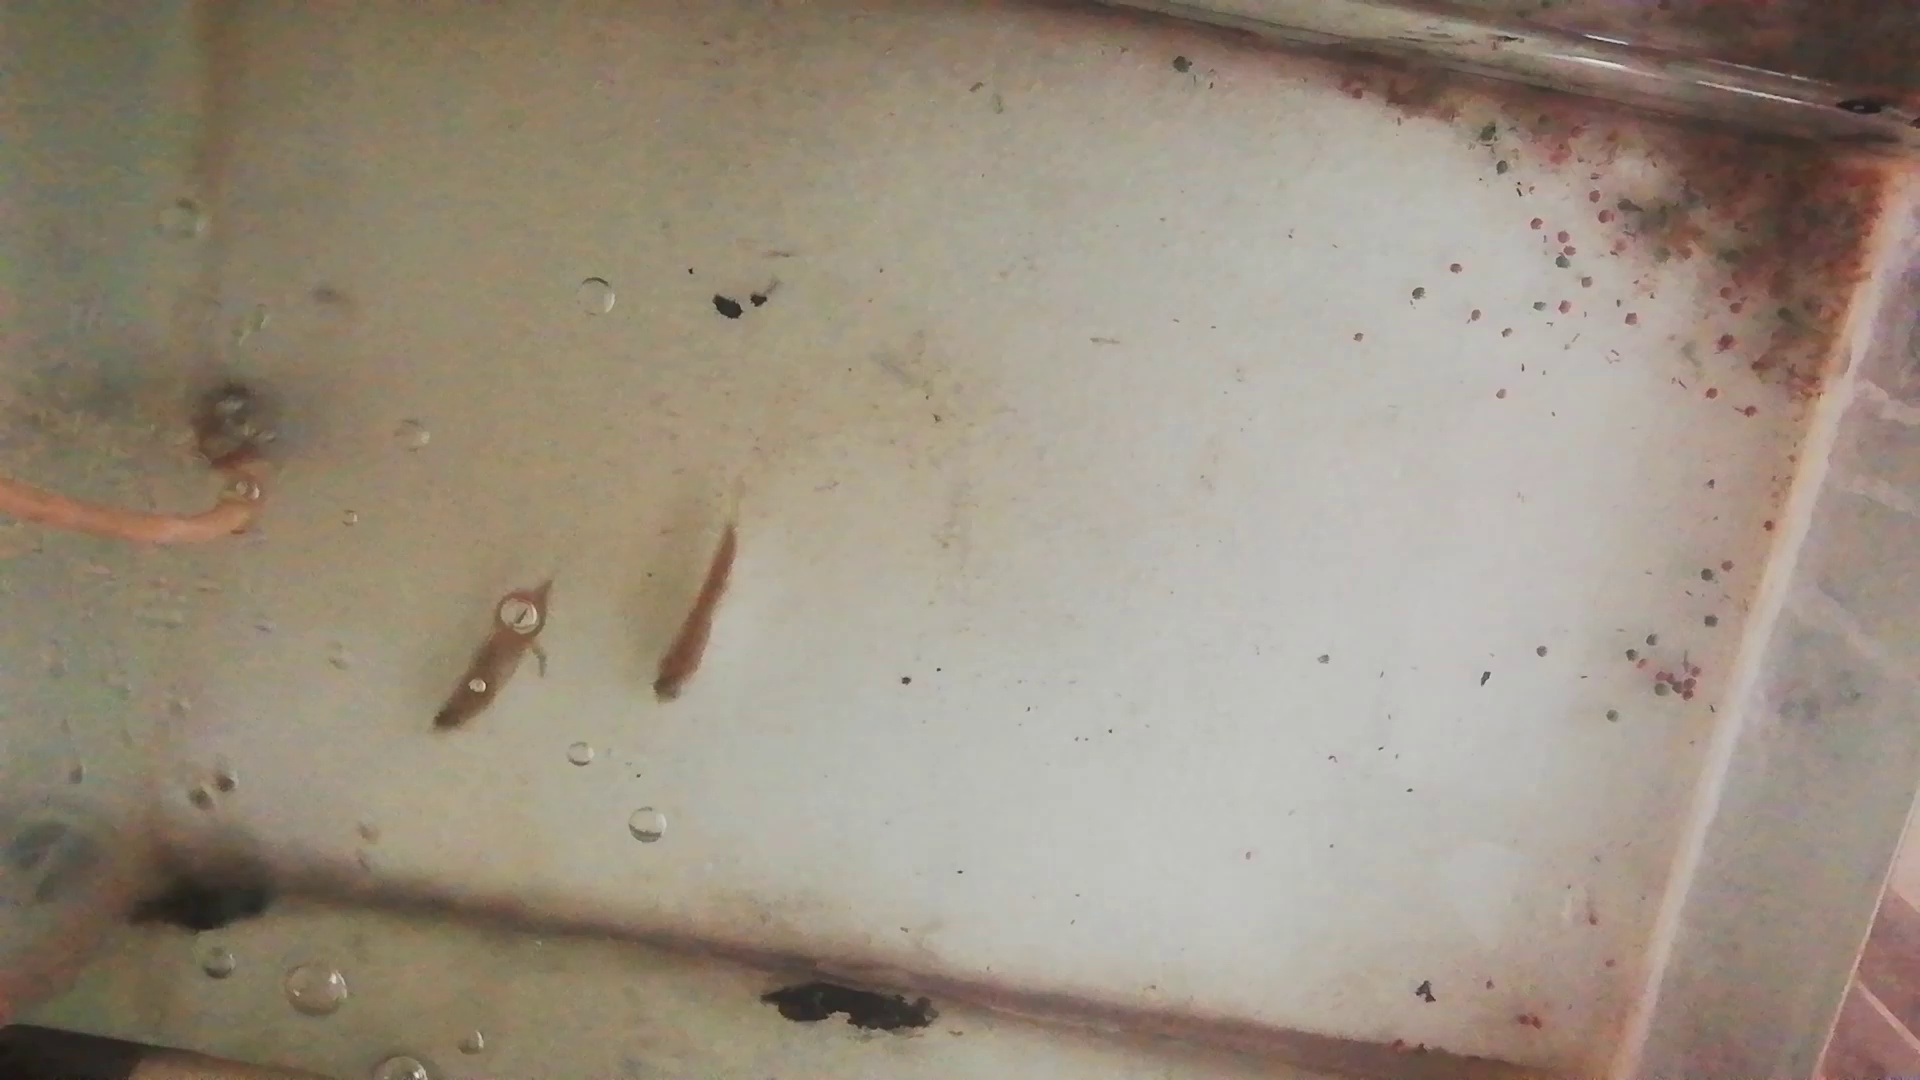fish: (427, 576, 562, 738), (647, 521, 742, 703)
